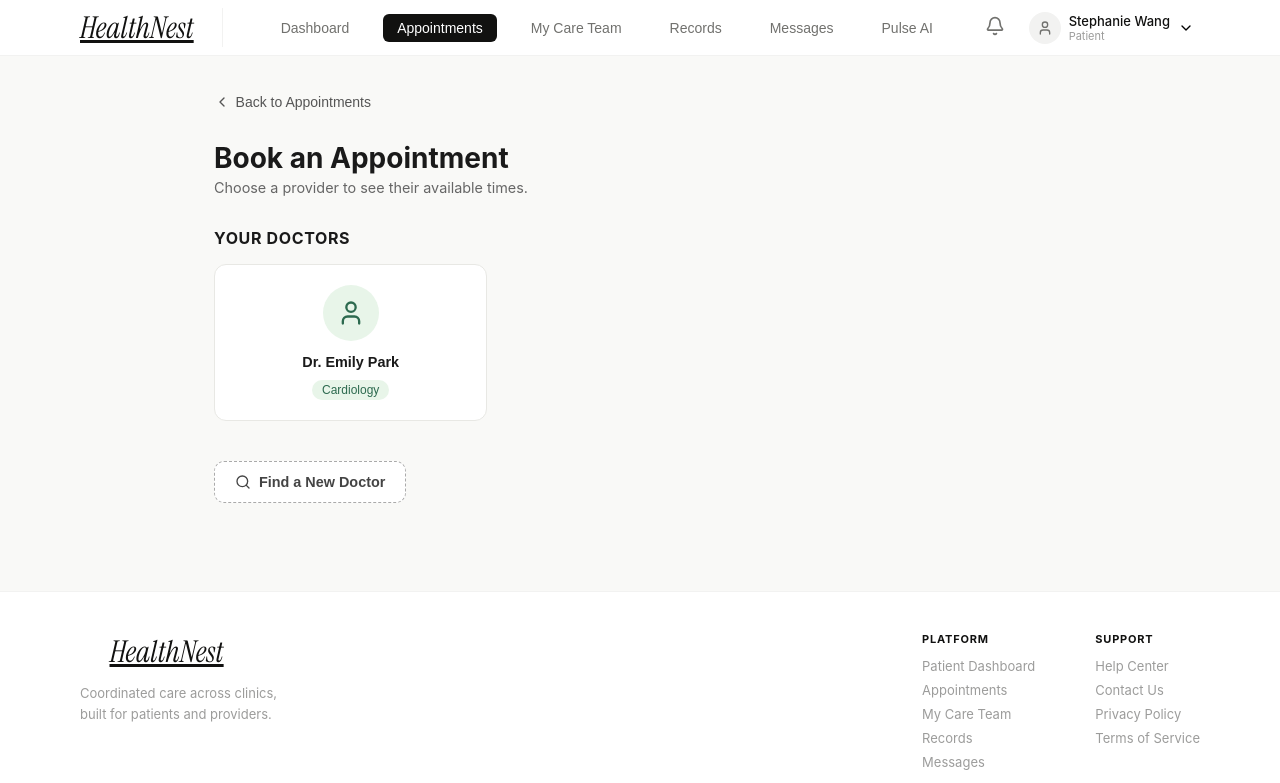
Test: BookingPage › shows new providers after Find a New Doctor is clicked
This screenshot has width=1280, height=783.
What coordinates should you click on to do the following:
click the button "Find a New Doctor"
I would click on:
 (310, 482)
Its box is [214,461,406,503].
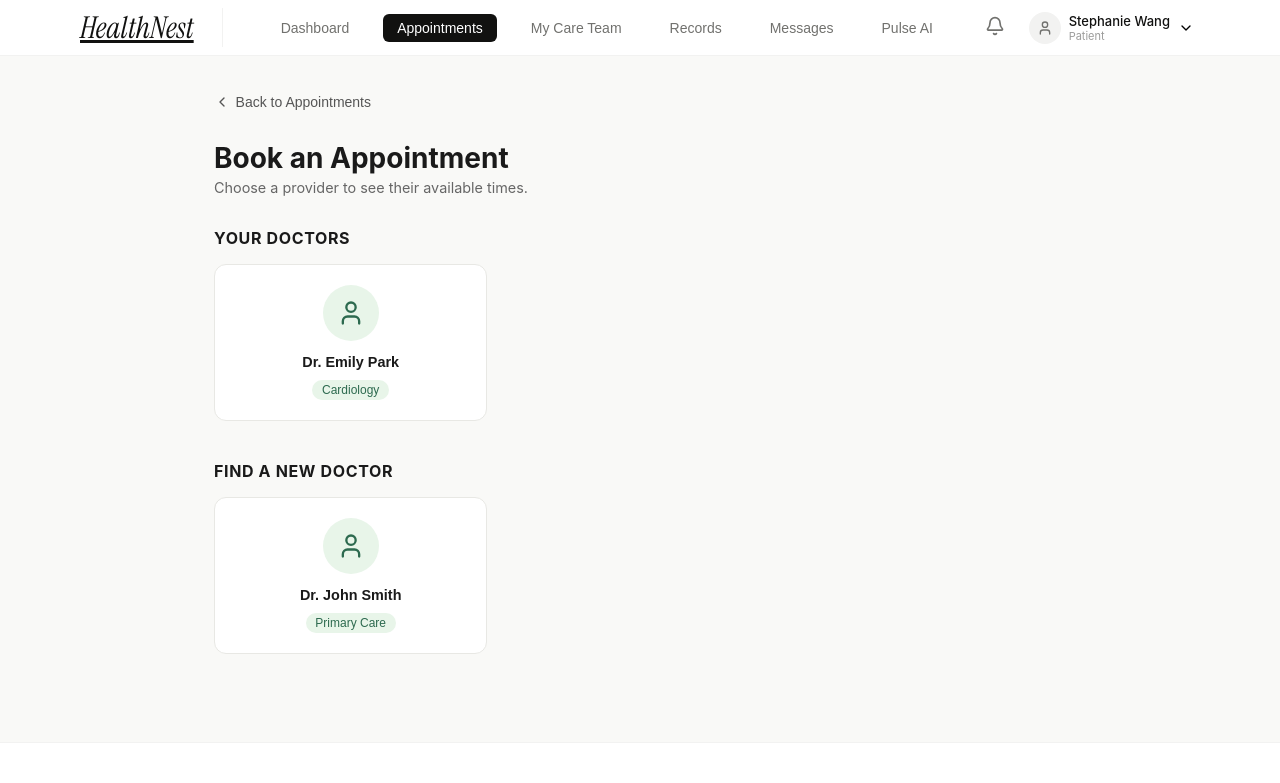
Expected: the text "Dr. John Smith" is shown, [300,586,401,605]
